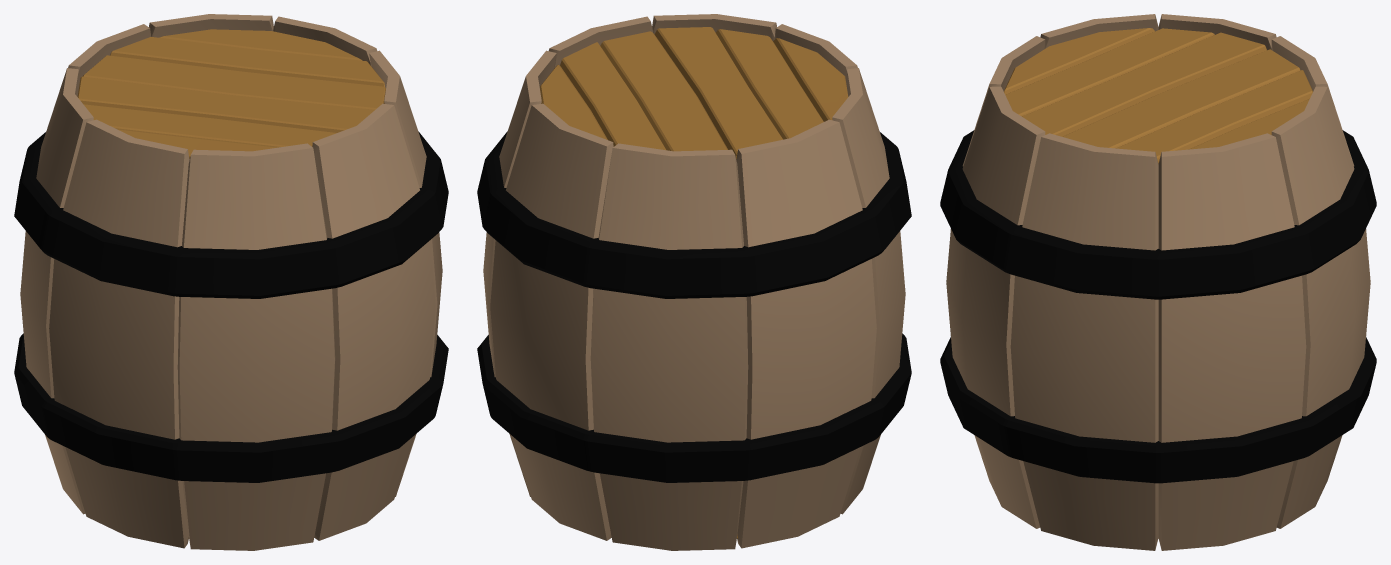
Rendered from Cask_01.fbx.
The picture shows the model from 3 angles, left to right: view 1: azimuth 30°, elevation 25°; view 2: azimuth 150°, elevation 25°; view 3: azimuth 270°, elevation 25°; orthographic projection.
Parts seen in each view (by area): view 1: Cask; view 2: Cask; view 3: Cask.
Part boxes in pixels (x1,y1,x2,y2): Cask: (14,14,448,550); Cask: (477,14,911,550); Cask: (940,14,1376,550).
Bounding box in the file's own units: 48.38 × 48.18 × 48.38.
